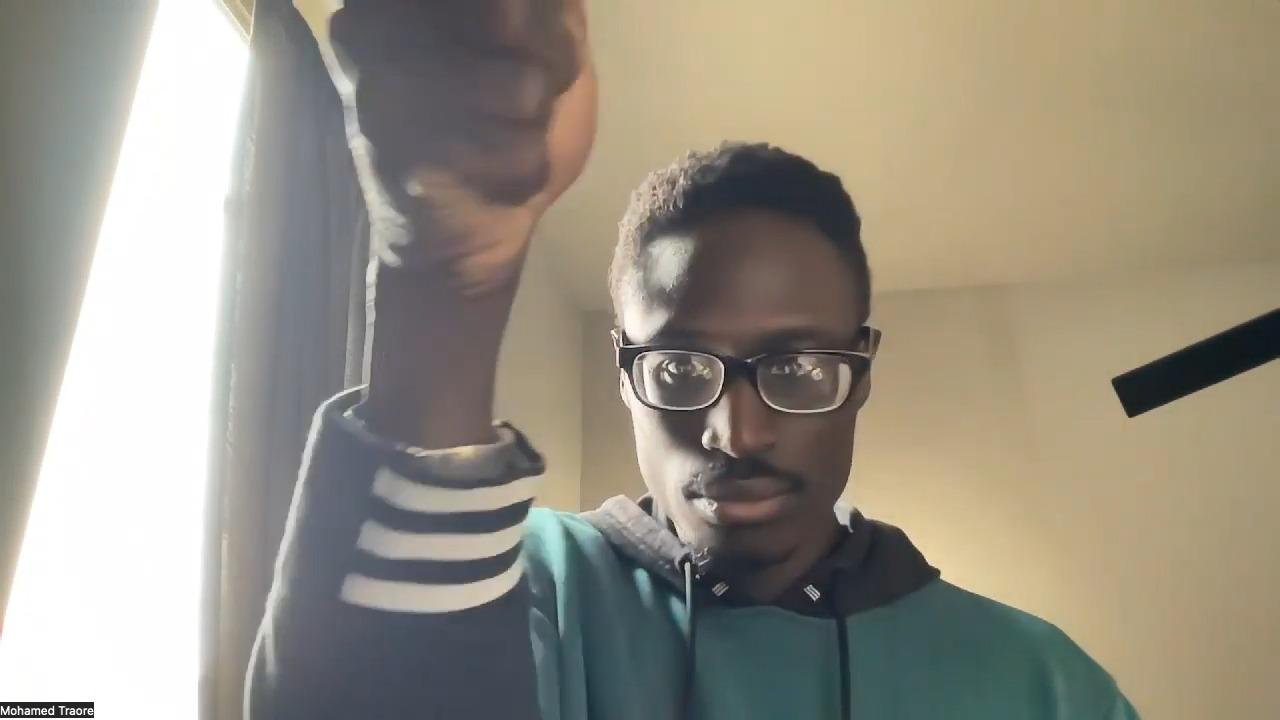Rock: (318, 0, 607, 298)
